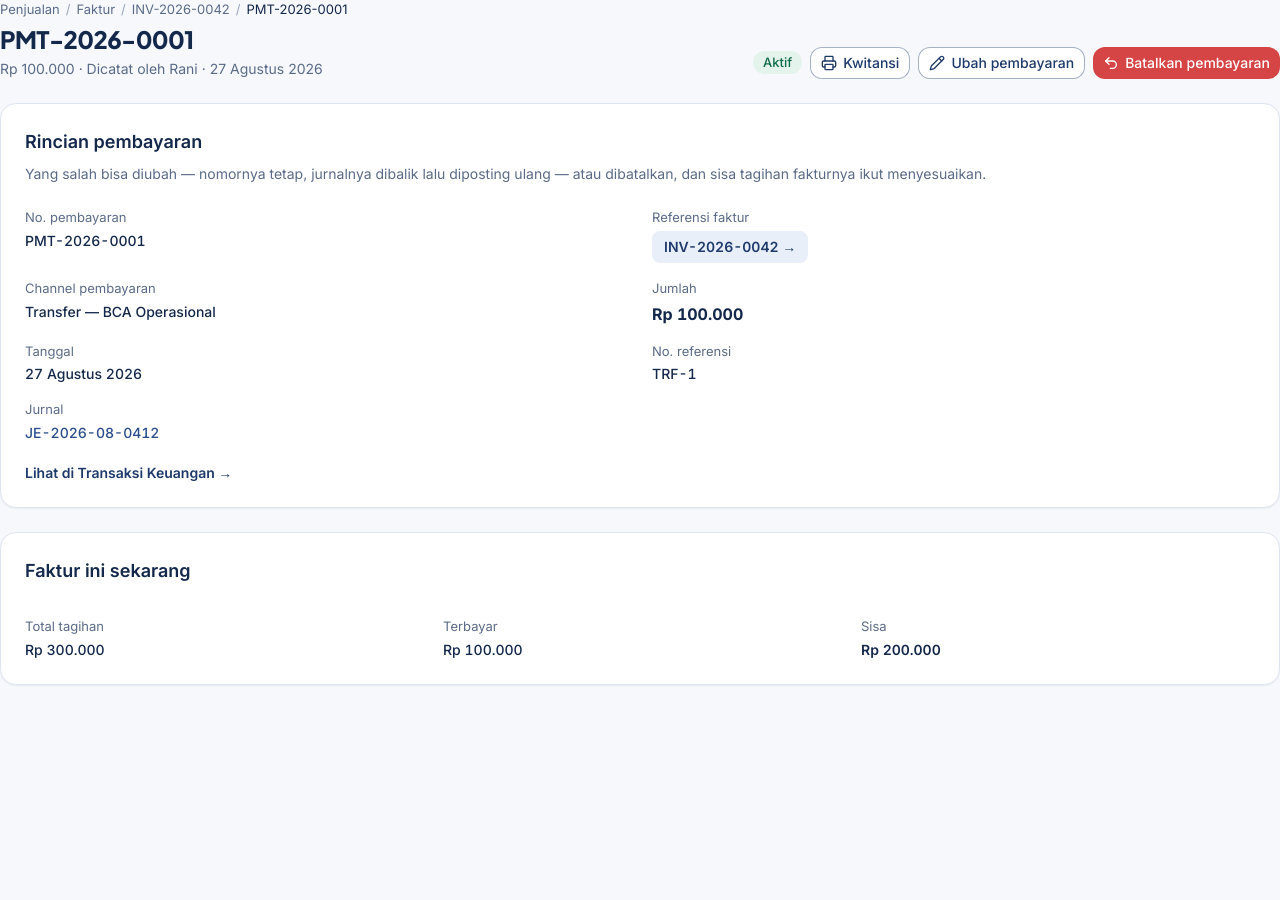
InvoicePaymentDetail — cancelling it › cancels the payment with its reason and renders what the write returned
Step 1. Click the button "Batalkan pembayaran" → (1187, 63), box x1=1093 y1=47 x2=1279 y2=79
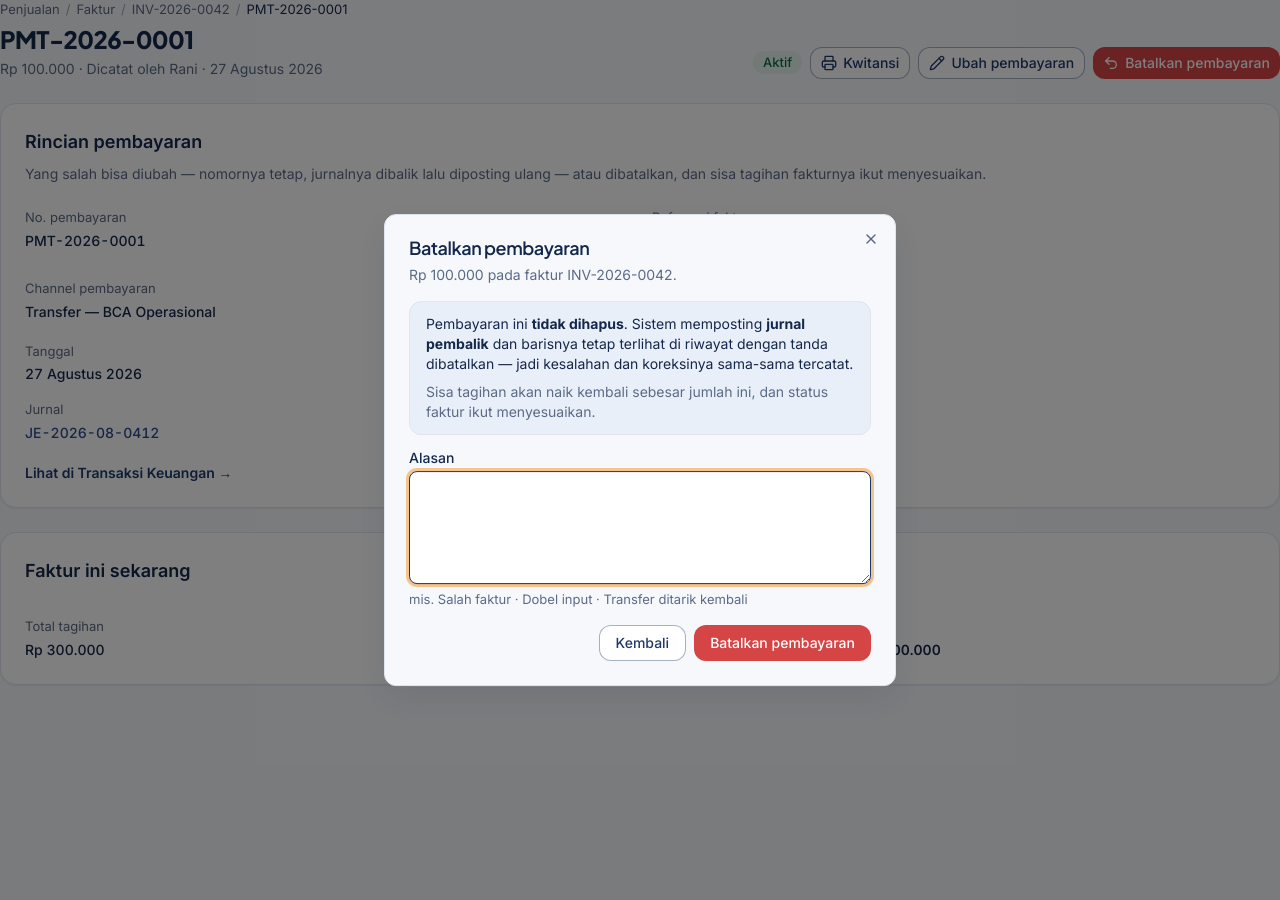
Step 2. Type "Salah faktur" into the text box labelled "Alasan" → (640, 528), box x1=409 y1=471 x2=871 y2=584
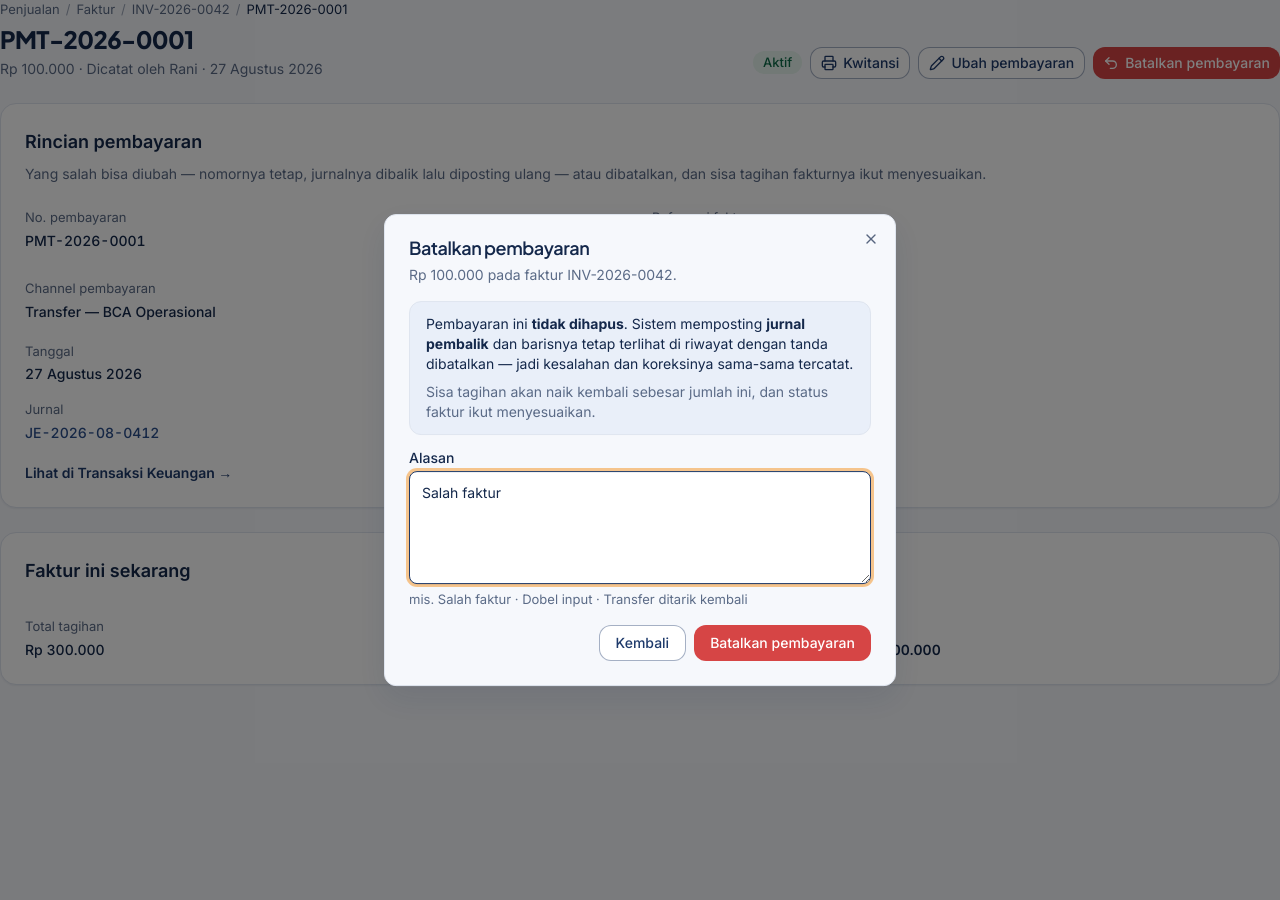
Step 3. Click the button "Batalkan pembayaran" → (783, 643), box x1=694 y1=625 x2=871 y2=661
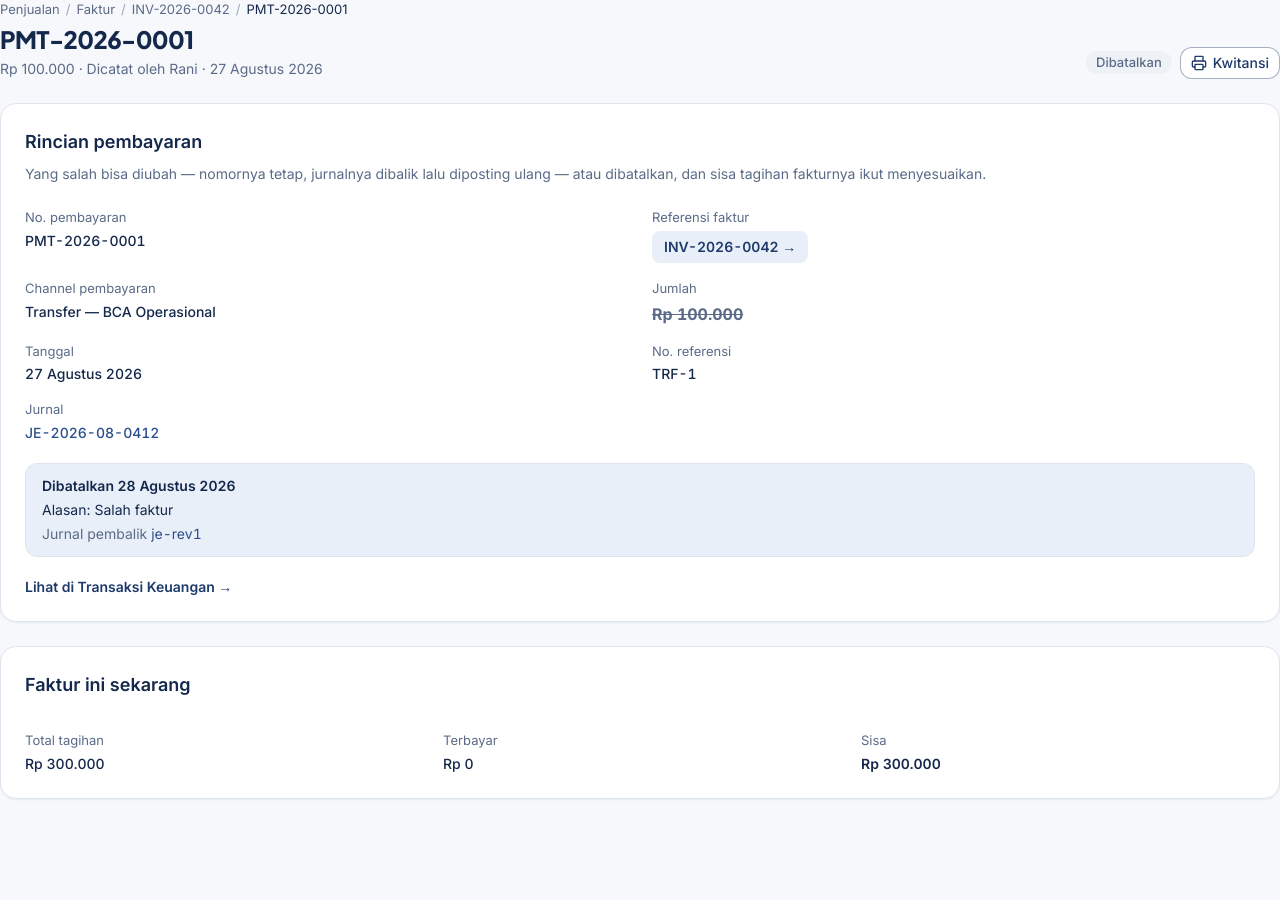
Check: the text "Alasan: Salah faktur" is shown, box x1=42 y1=501 x2=173 y2=518
Check: the text "Dibatalkan" is shown, box x1=1086 y1=51 x2=1172 y2=74
